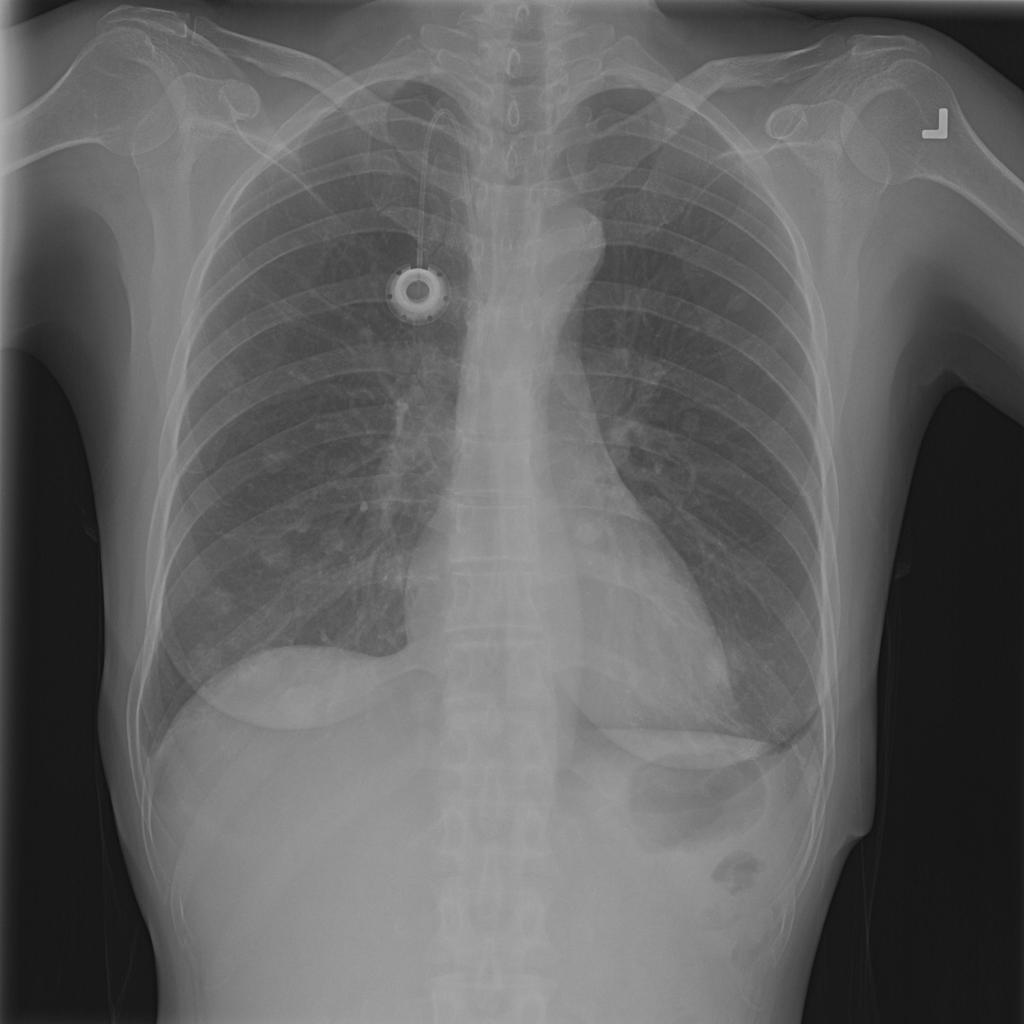nodule: (264, 670, 340, 739), (685, 624, 753, 701), (225, 639, 302, 704), (175, 628, 246, 693), (249, 526, 304, 575), (194, 581, 249, 627), (310, 515, 361, 563), (563, 505, 611, 555), (204, 351, 255, 398), (249, 439, 304, 481), (319, 442, 369, 488), (672, 403, 709, 442), (723, 281, 759, 319), (348, 314, 384, 350)
